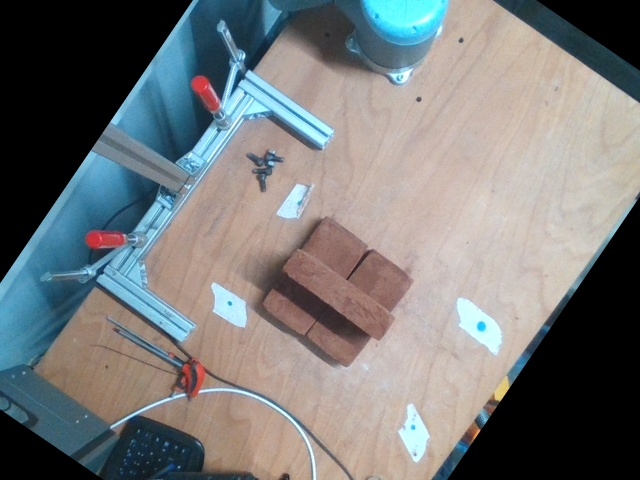brick-side: (281, 247, 397, 343)
